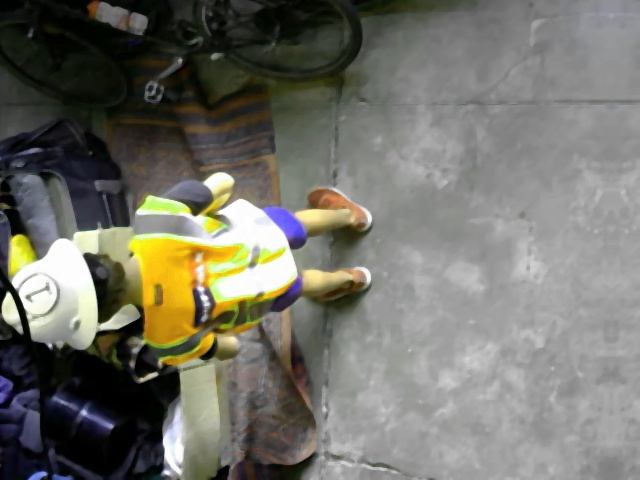one: (16, 272, 57, 314)
